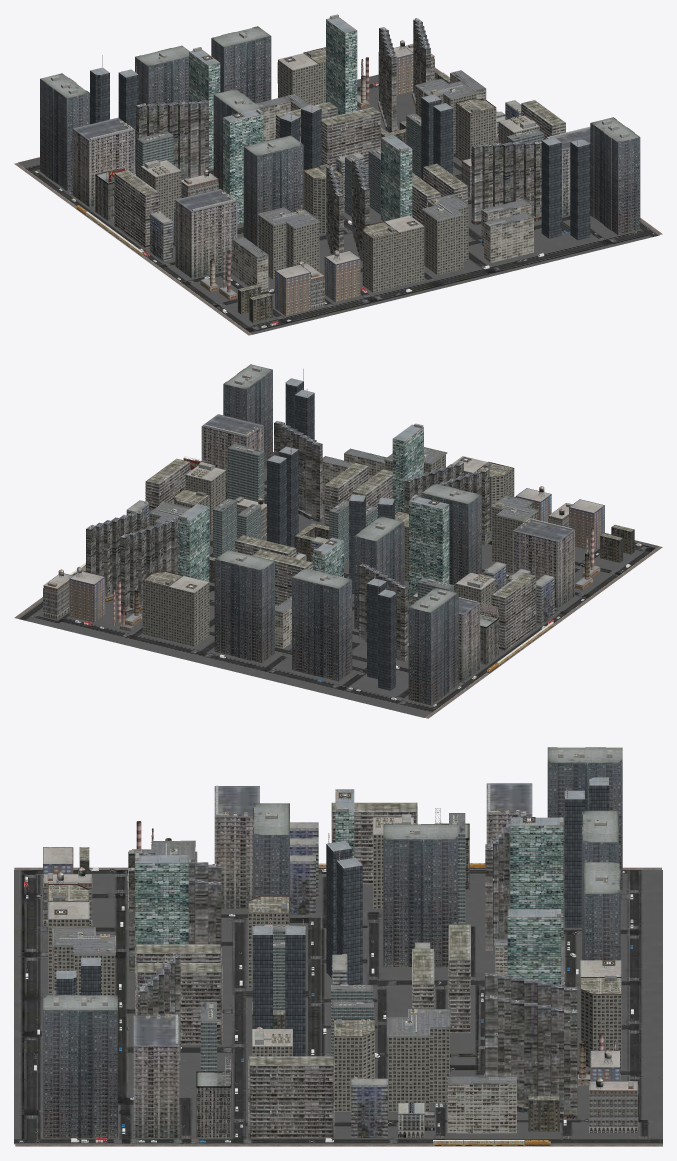
File: city.8c7d28cbbf.glb
3 views of the same model, one above another, from view 1: azimuth 30°, elevation 25°; view 2: azimuth 150°, elevation 25°; view 3: azimuth 270°, elevation 25° (orthographic). The views are drawn at different scales.
Visible parts, largest first — view 1: Plane_504, Building2_8, Building2.005_447, Building12.002_173, Building3.002_463, Building2.003_272, Building12.005_400, Building3.001_278, Building2.002_209, building.018_337, building.012_219, Building1.001_200 (+50 smaller); view 2: Plane_504, Building2.002_209, Building2.004_430, Building2.003_272, Building3.002_463, Building1.002_265, Building12.001_99, Building2.005_447, Building2.001_205, Building2_8, building.007_165, Building12_104 (+45 smaller); view 3: Plane_504, Building2_8, Building2.001_205, Building12_104, Building5_51, building.001_97, Building3_14, Building1_1, Building1.003_425, Building3.002_463, Building2.003_272, Building10_132 (+49 smaller).
Part boxes in pixels (x1,y1,x2,y2): Plane_504: [18, 71, 659, 334]; Building2_8: [590, 117, 640, 234]; Building2.005_447: [243, 135, 303, 247]; Building12.002_173: [471, 140, 541, 220]; Building3.002_463: [175, 189, 237, 278]; Building2.003_272: [40, 73, 89, 190]; Building12.005_400: [136, 100, 208, 177]; Building3.001_278: [73, 117, 134, 207]; Building2.002_209: [211, 26, 271, 103]; building.018_337: [257, 207, 320, 279]; building.012_219: [421, 194, 469, 274]; Building1.001_200: [326, 17, 357, 115]; Plane_504: [18, 452, 658, 717]; Building2.002_209: [214, 549, 274, 662]; Building2.004_430: [292, 568, 352, 681]; Building2.003_272: [408, 587, 458, 705]; Building3.002_463: [513, 520, 574, 608]; Building1.002_265: [409, 497, 449, 605]; Building12.001_99: [120, 517, 177, 610]; Building2.005_447: [421, 483, 481, 592]; Building2.001_205: [354, 516, 404, 629]; Building2_8: [223, 364, 272, 468]; building.007_165: [168, 576, 209, 646]; Building12_104: [86, 509, 145, 597]; Plane_504: [14, 870, 662, 1144]; Building2_8: [43, 995, 117, 1138]; Building2.001_205: [383, 824, 458, 967]; Building12_104: [485, 996, 577, 1113]; Building5_51: [248, 1056, 334, 1138]; building.001_97: [387, 1009, 450, 1111]; Building3_14: [133, 1015, 179, 1137]; Building1_1: [510, 817, 563, 939]; Building1.003_425: [135, 855, 188, 1006]; Building3.002_463: [214, 786, 259, 908]; Building2.003_272: [547, 747, 622, 890]; Building10_132: [447, 1076, 516, 1133].
Size of the model in its own units: 407 by 104 by 400.
Materials: 6 (6 with a texture image).
